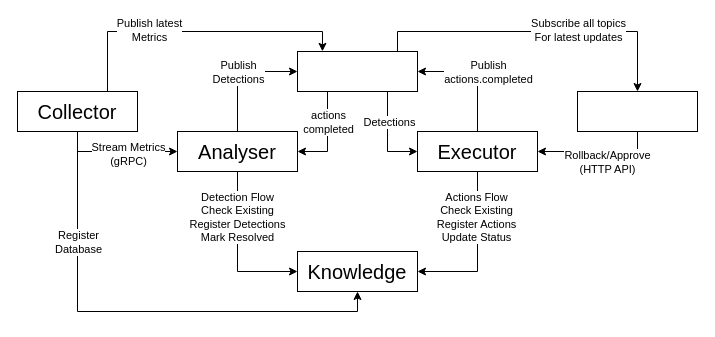
Image size: 715x337. Some labels were removed from this diagram. Each missing label, with the centre of its shape:
"Dashboard" goes at pixel 637 111.
"NATS (Eventbus)" goes at pixel 357 71.
